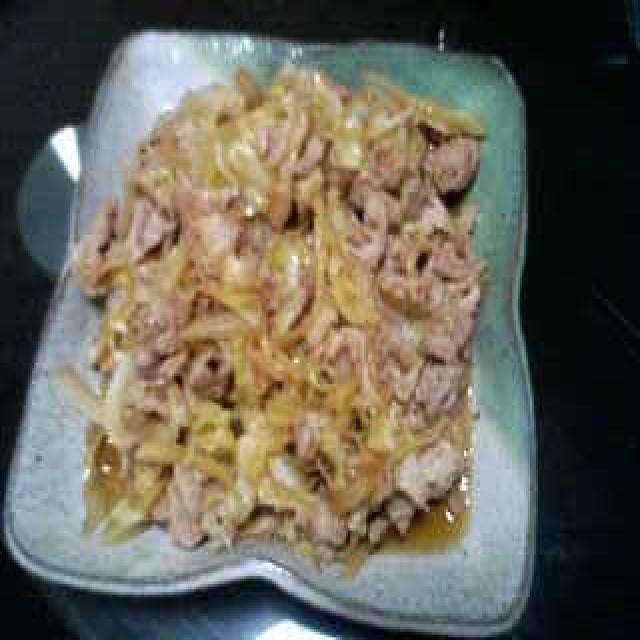猪肉菜式: (48, 48, 500, 560)
